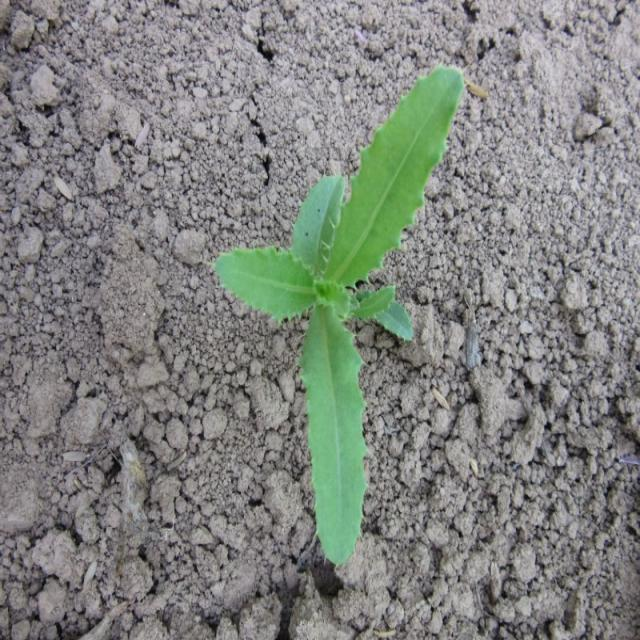cs: (212, 59, 465, 572)
